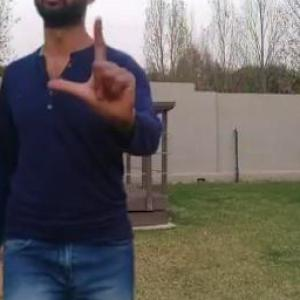land_hand: (48, 12, 140, 120)
